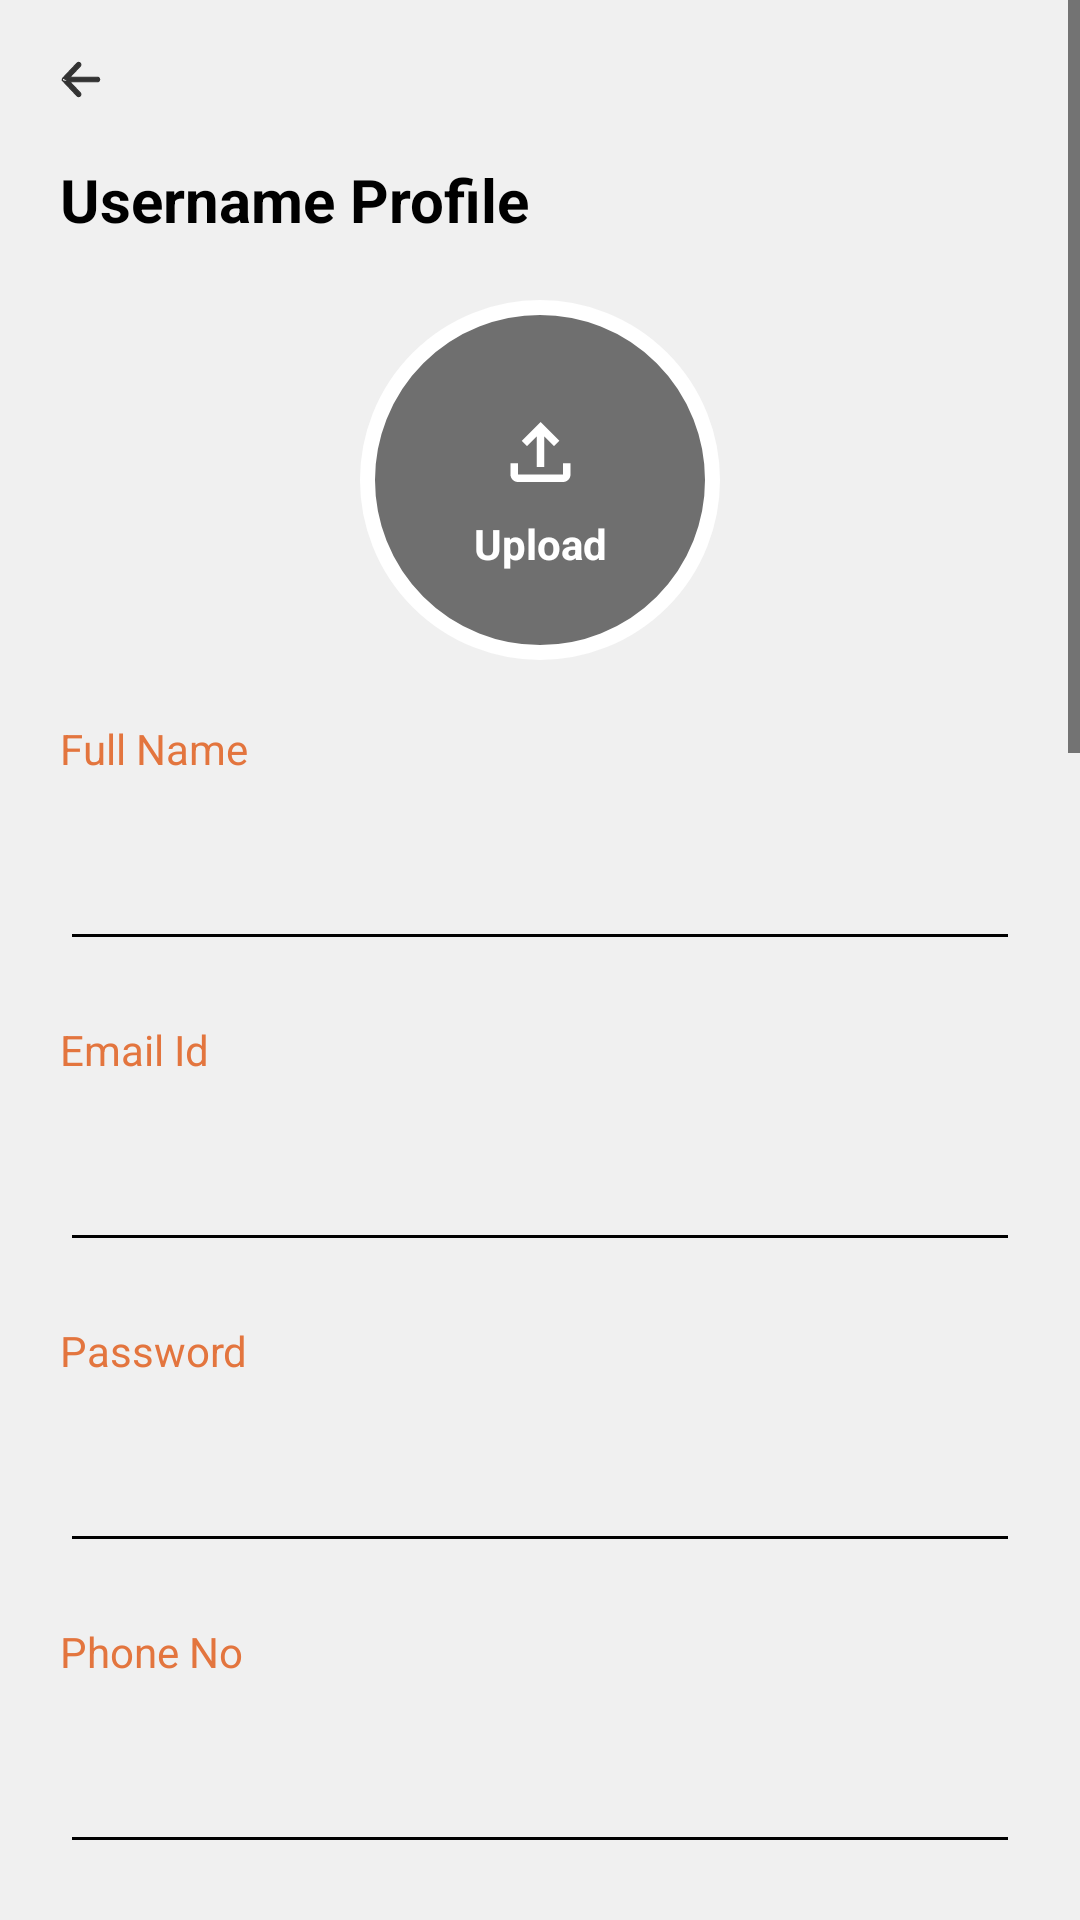

Screen size 1080px×1920px. Icon name, then its center in pixels as (x,y):
back: (81,79)
